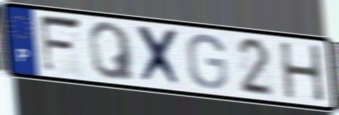2: (235, 36, 276, 100)
F: (38, 13, 86, 76)
G: (184, 32, 230, 91)
H: (277, 41, 327, 104)
Q: (86, 21, 138, 83)
X: (135, 23, 186, 90)
